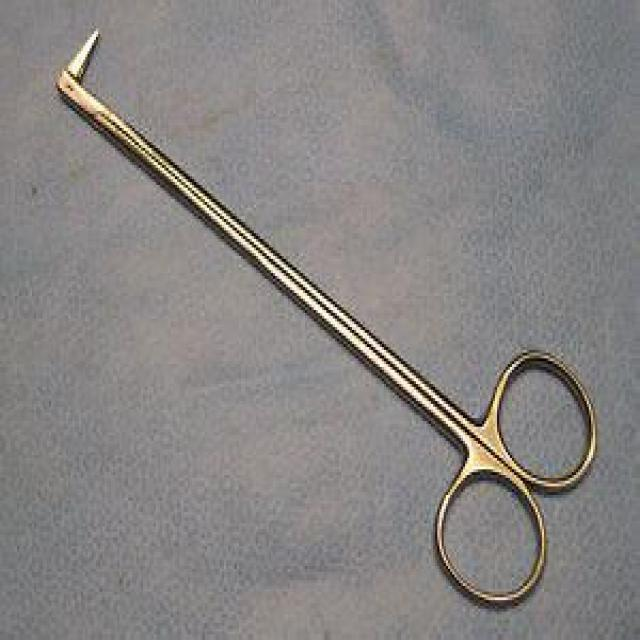Potts: (53, 22, 600, 614)
